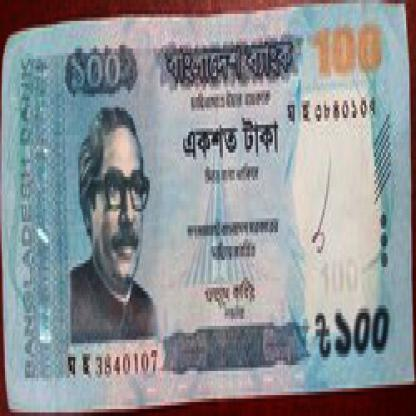one hundred taka: (311, 18, 391, 84), (57, 42, 144, 100), (330, 298, 396, 357)
